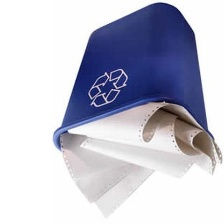news_paper: (54, 95, 224, 221)
